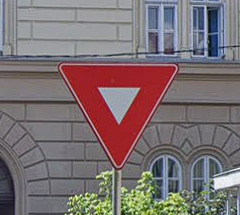cedeaza: (55, 59, 185, 173)
